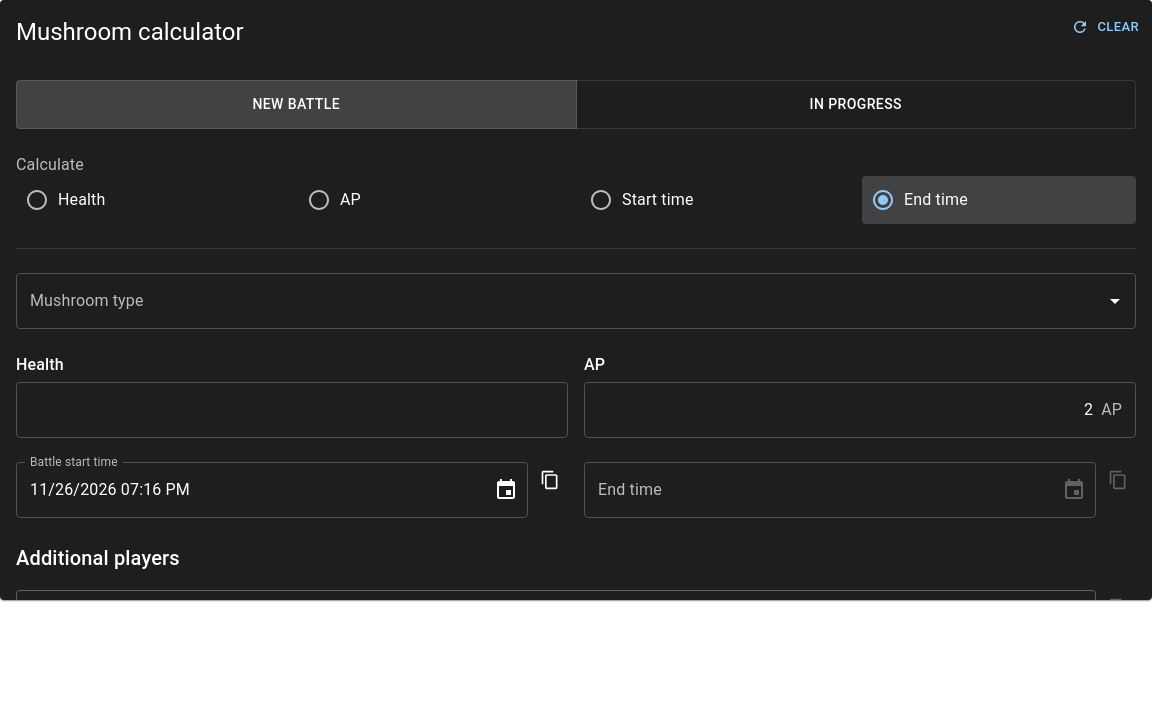
Test case: MushCalcRadio › preserves an in-progress battle while switching tabs
The image size is (1152, 720).
Click the button with aria-label "Plan a battle in progress" at (856, 104), box [576, 80, 1136, 128]
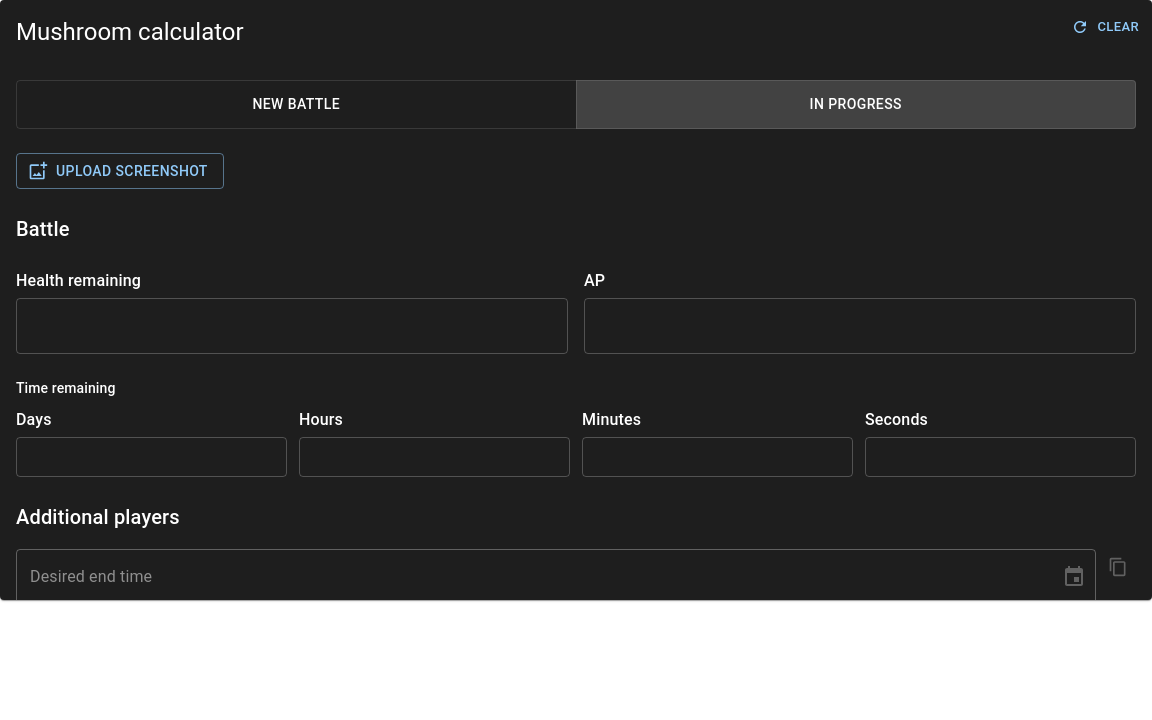
Type "240" into the field labelled "AP" at (860, 326), box [584, 298, 1136, 354]
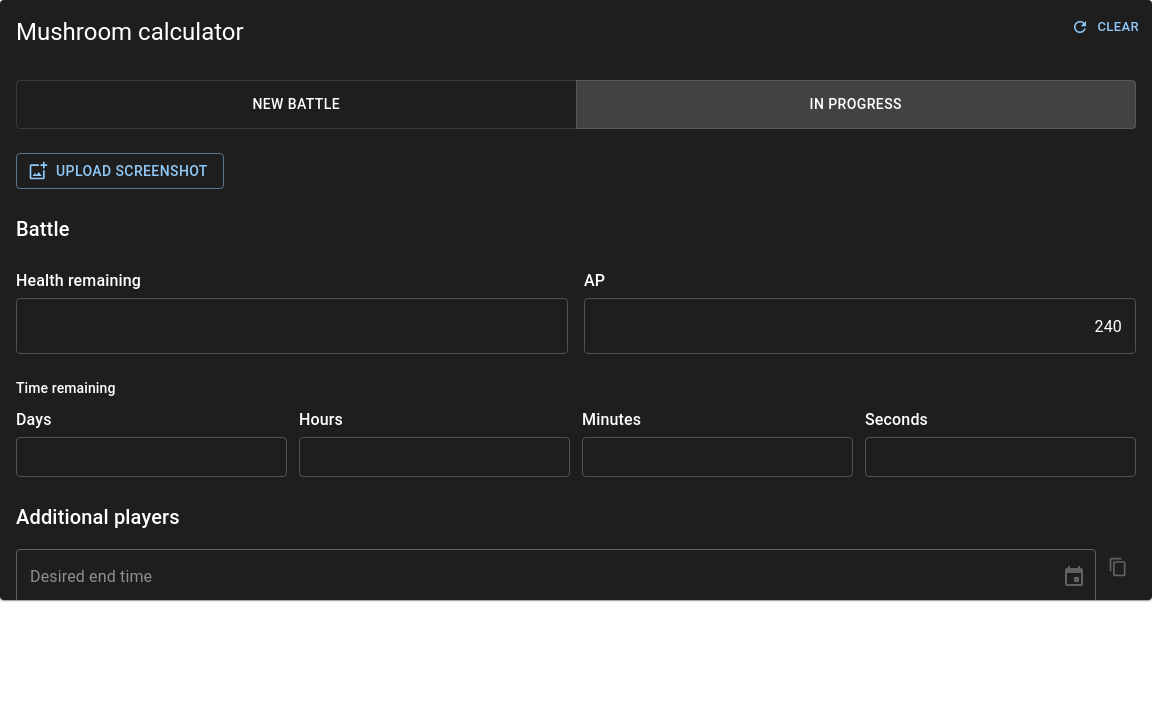
Type "1800" into the field labelled "Health remaining" at (292, 326), box [16, 298, 568, 354]
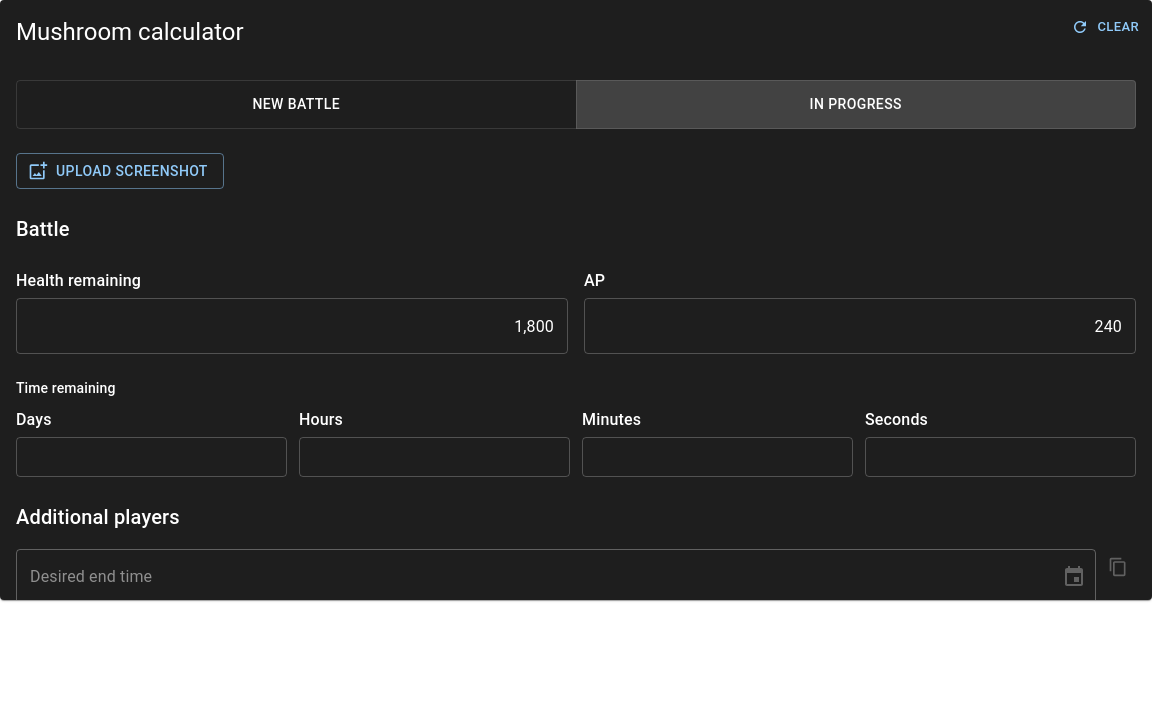
Click the button with aria-label "Plan a new battle" at (296, 104), box [16, 80, 576, 128]
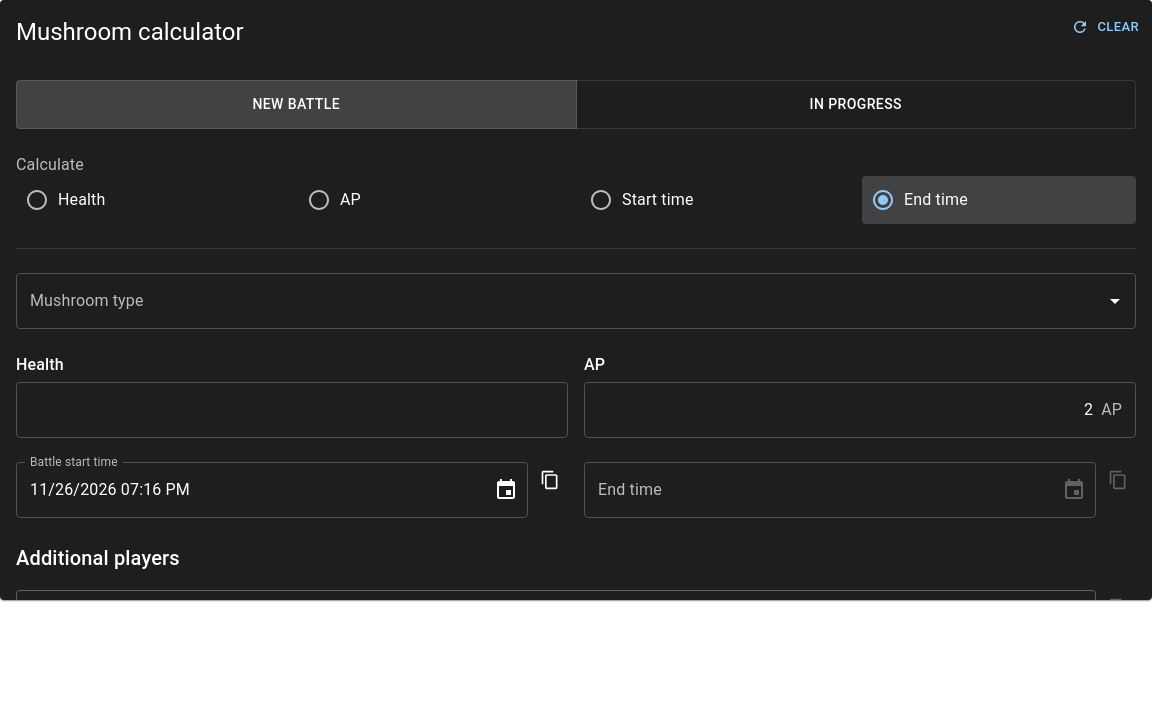
Click the button with aria-label "Plan a battle in progress" at (856, 104), box [576, 80, 1136, 128]
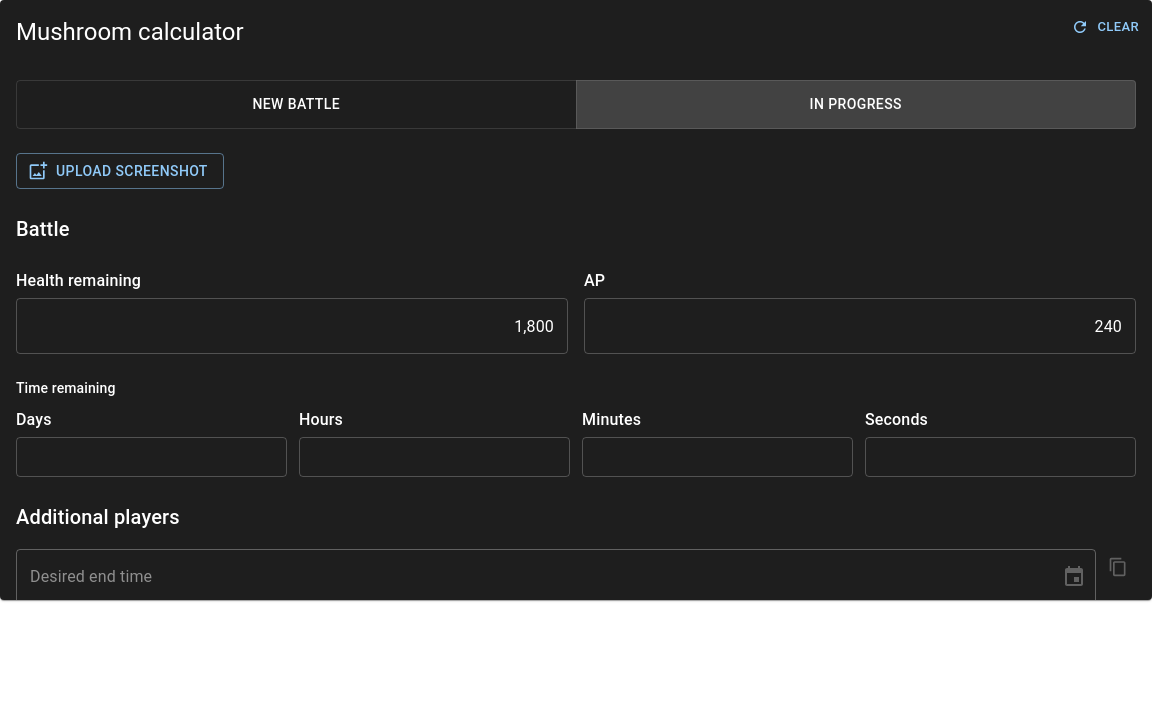
Expected: the field labelled "Health remaining" holds "1,800", [16, 298, 568, 354]
